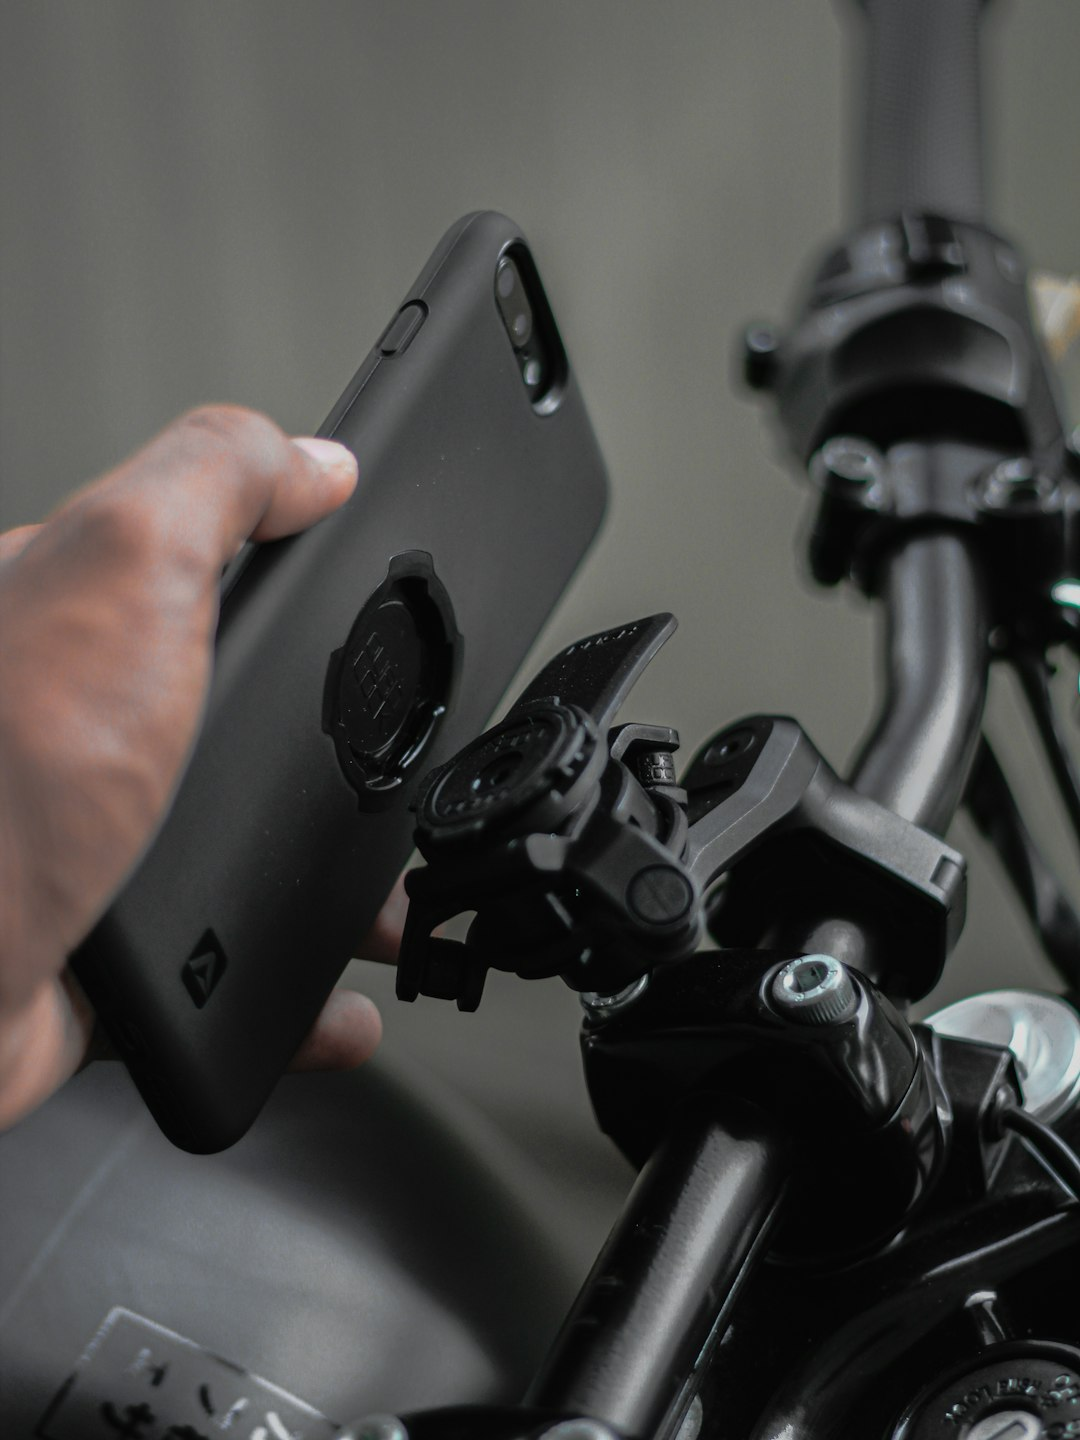phone: (69, 206, 611, 1155)
